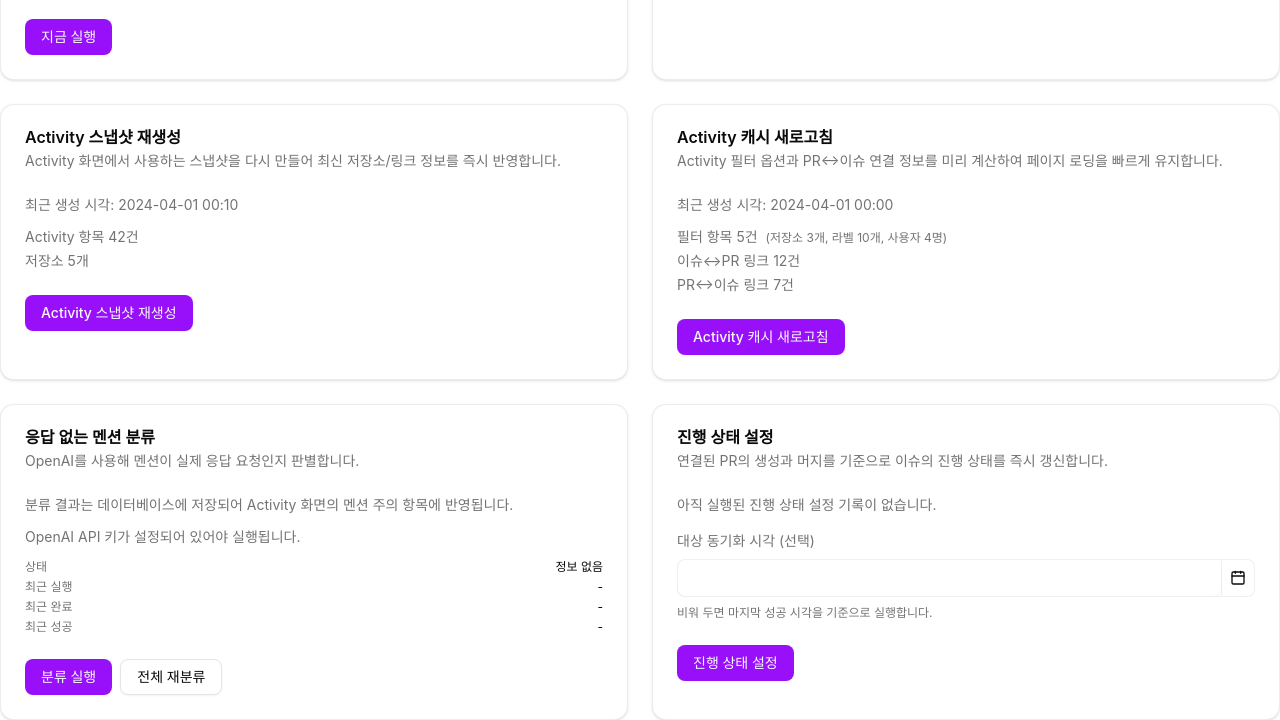
SyncControls › runs unanswered mention classification incrementally
The width and height of the screenshot is (1280, 720).
(page scrolled)
Click the button "분류 실행" at (69, 677), box [25,659,112,695]
(page scrolled)
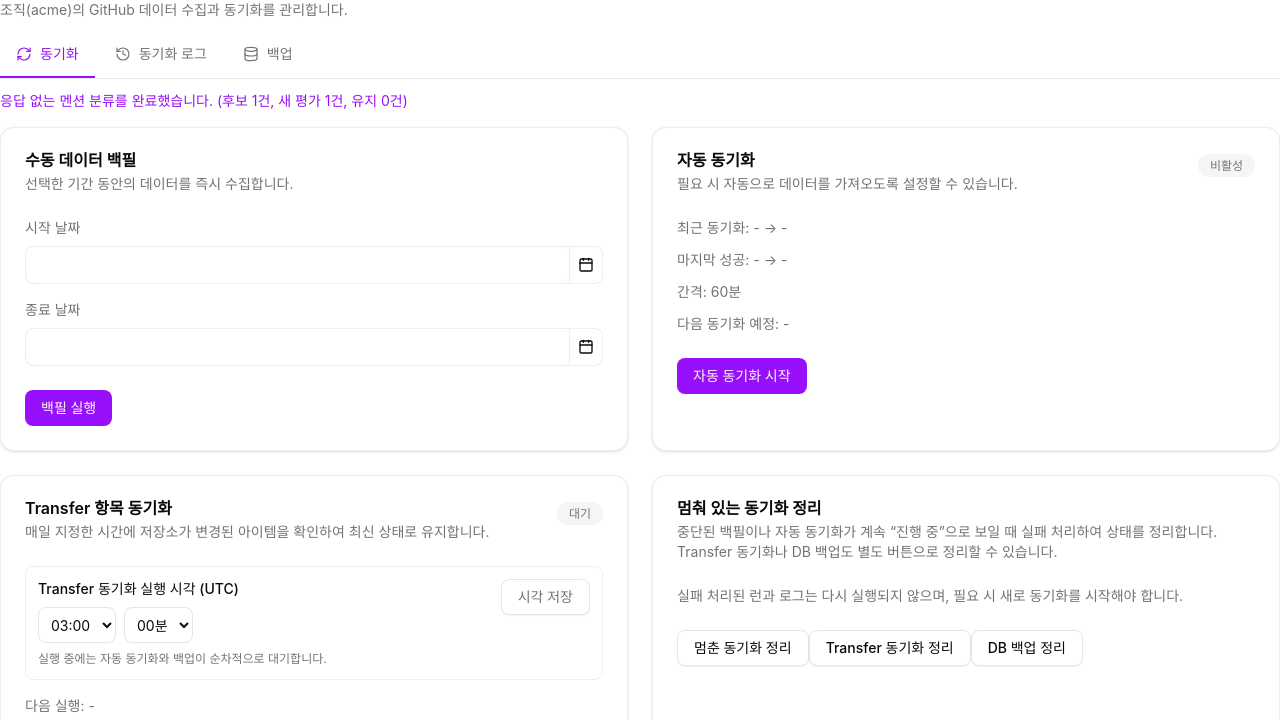
Result: the text "응답 없는 멘션 분류를 완료했습니다. (후보 1건, 새 평가 1건, 유지 0건)" is shown at [0,92,408,109]
